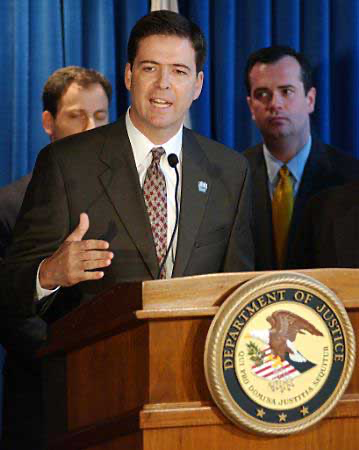Face: (130, 36, 197, 129), (247, 63, 308, 143), (48, 85, 112, 146)
